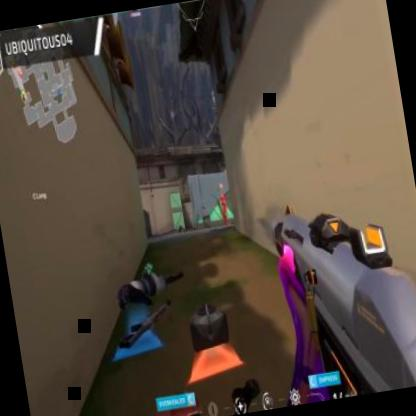enemy: (219, 192, 230, 226)
enemy_head: (221, 193, 224, 199)
